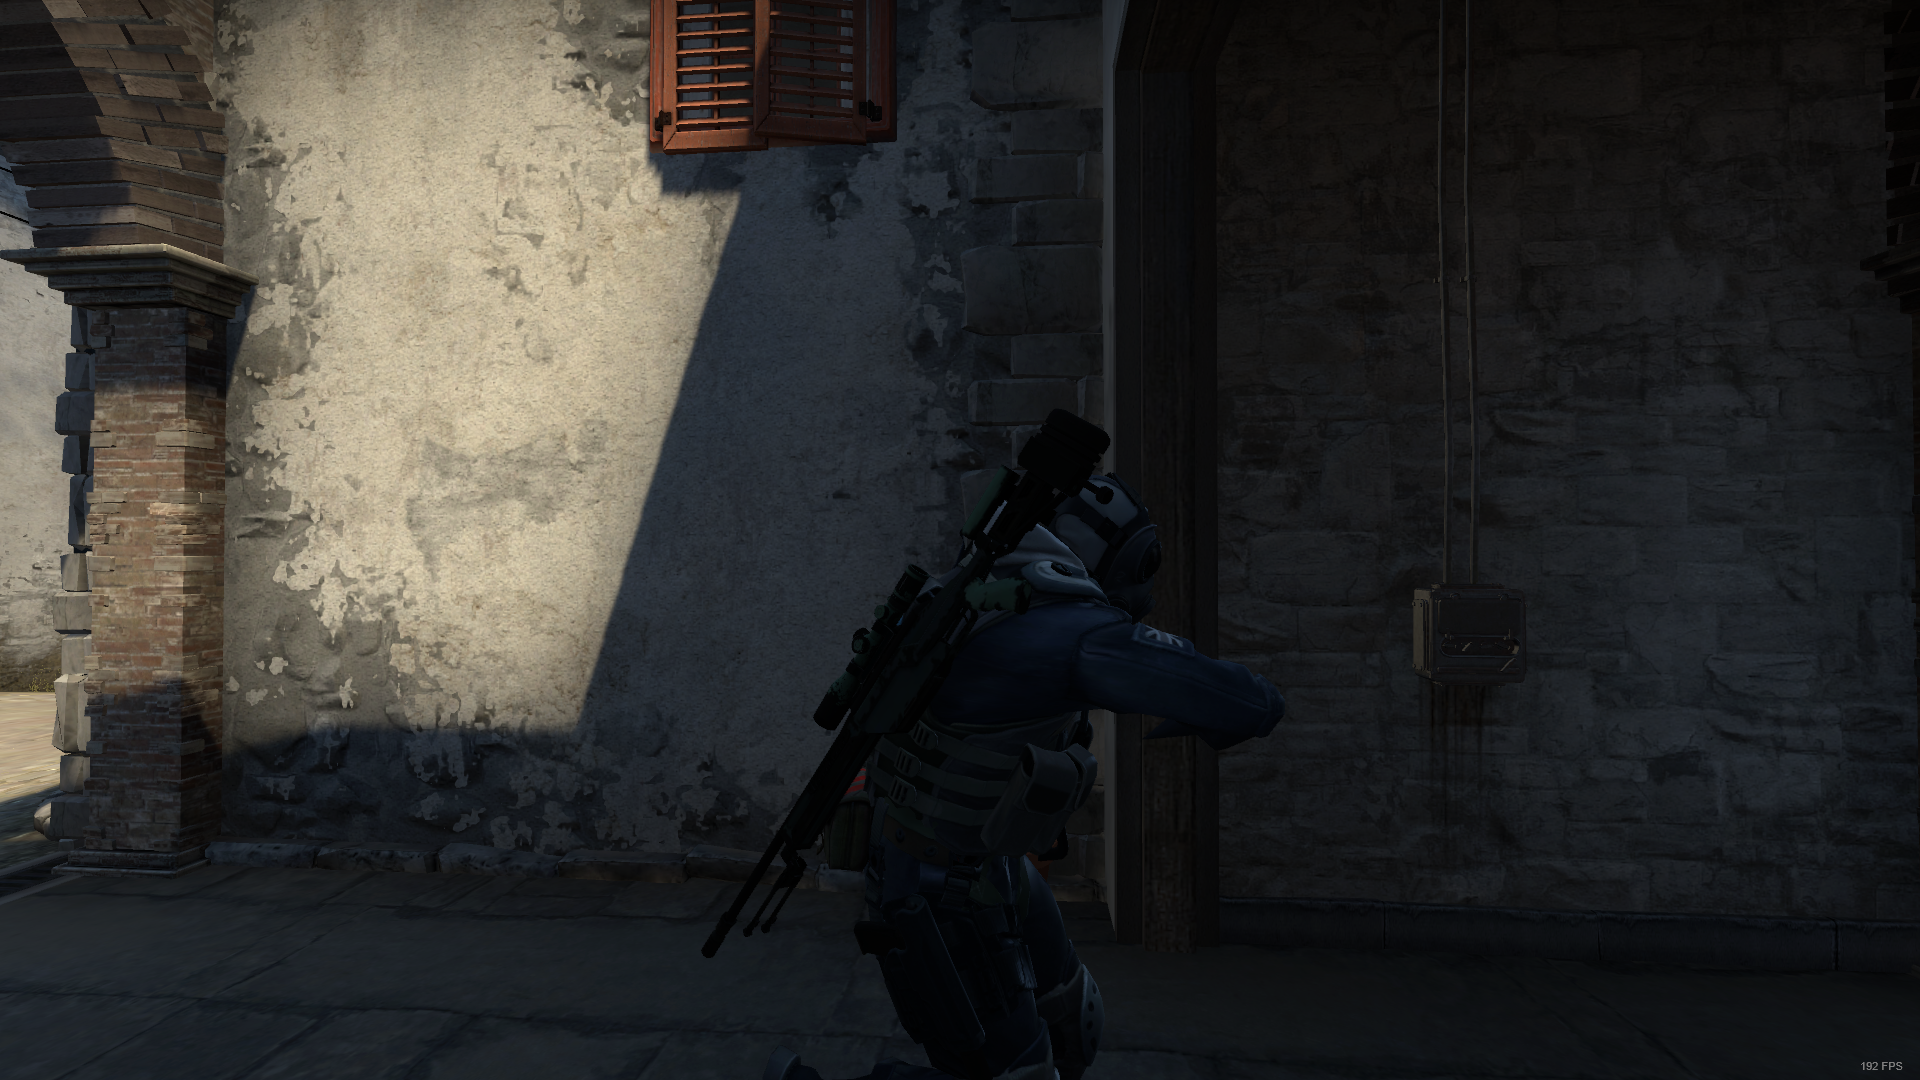ct: (857, 476, 1284, 1080)
